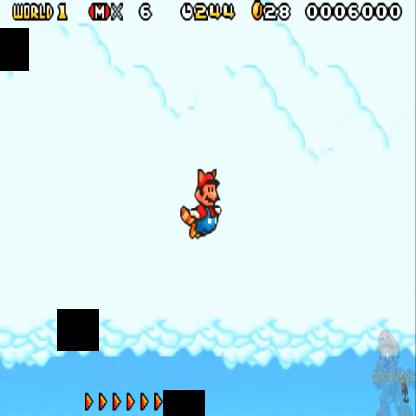Mario: (172, 164, 224, 244)
moneda: (251, 0, 262, 28)
